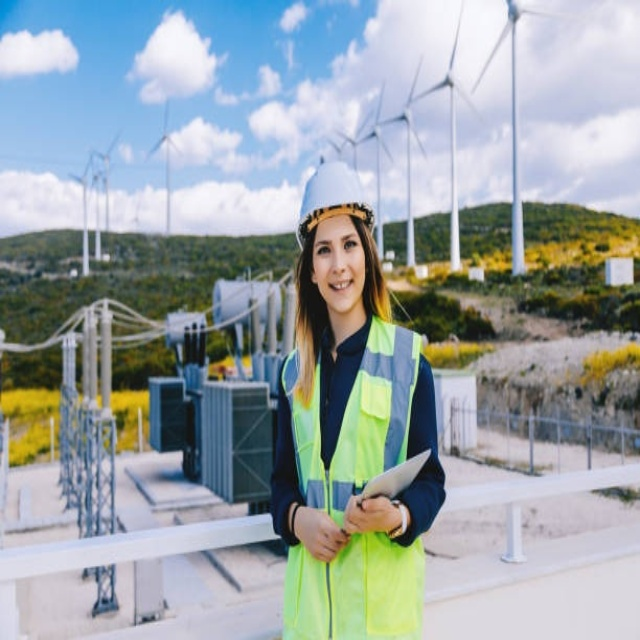Sin_gafas: (314, 229, 360, 262)
Sin_guantes: (299, 504, 350, 562), (342, 492, 398, 539)
Sin_mascara: (324, 273, 358, 304)
